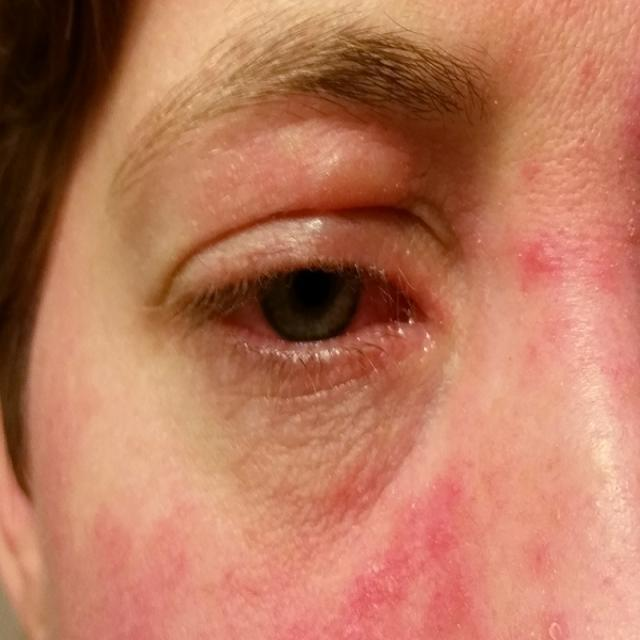Rosacea: (30, 123, 625, 640)
